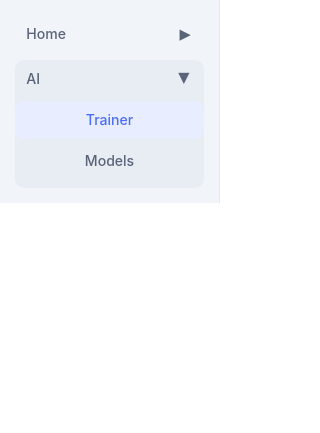
Test: SideBarNav: Home group › toggles open and closed on click
Click the button with test id "home-menu-toggle" at [185, 34], box [166,15,204,52]
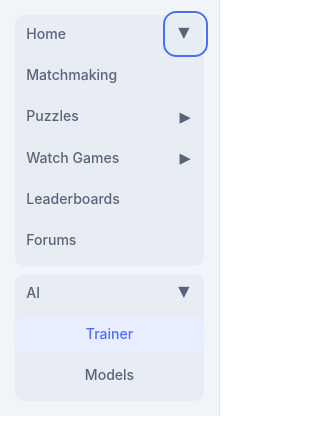
Now the button with test id "home-menu-toggle" is expanded
Now the link "Matchmaking" is shown, box [26,66,117,83]
Click the button with test id "home-menu-toggle" at [185, 34], box [166,15,204,52]
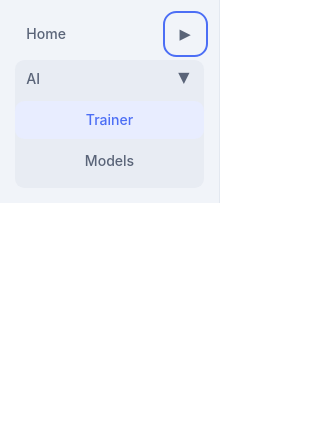
Now the button with test id "home-menu-toggle" is collapsed, box [166,15,204,52]
Now the link "Matchmaking" is gone
